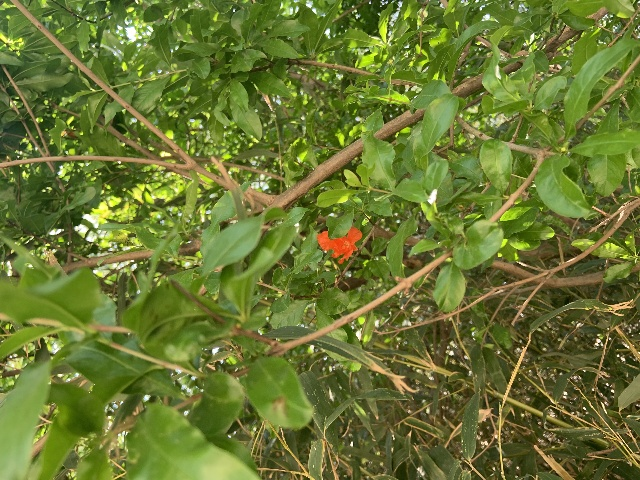flower: (316, 226, 362, 263)
